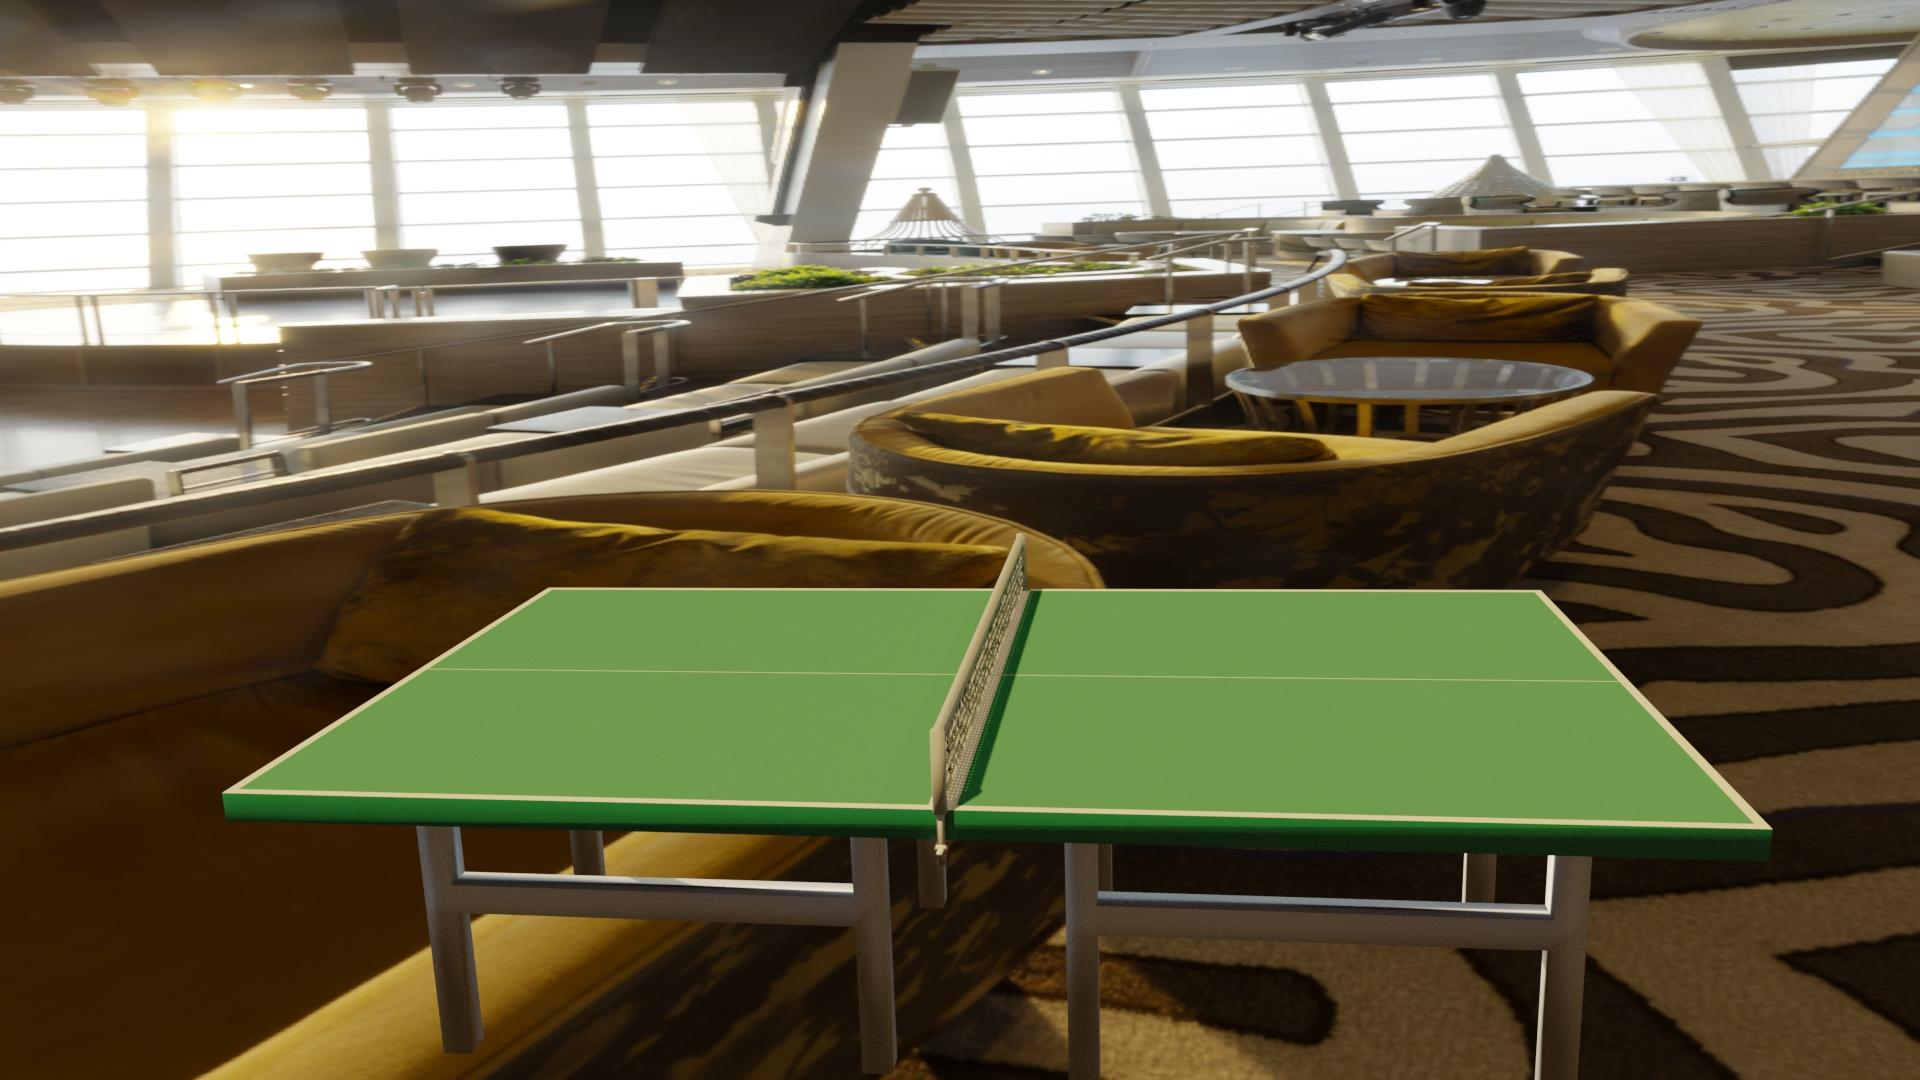table: (239, 589, 1755, 824)
